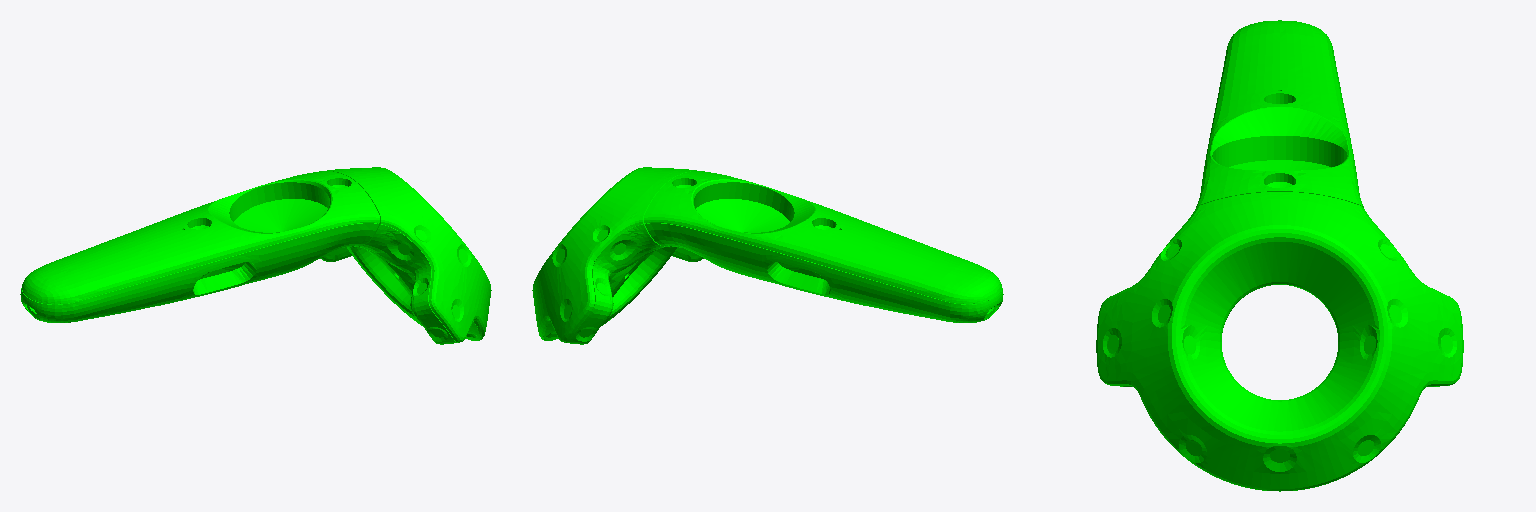
robot.urdf — my_robot:
<?xml version="1.0"?>
<robot name="my_robot">
  <link name="world" />
 
  <link name="controller0_link">
   <visual>
     <origin rpy="0 0 0" xyz="0 0 0"/>
     <geometry>
       <mesh filename="package://s4_vive/stl/vive_controller.stl"/>
     </geometry>
     <material name="green">
       <color rgba="0 1 0 1"/>
     </material>
   </visual>
  </link>
  <joint name="controller0_joint" type="floating">
    <parent link="world"/>
    <child link="controller0_link"/>
    <origin xyz="0 0 0" rpy="0 0 0"/>
    <axis xyz="0 0 1"/>
    <limit effort="30" velocity="1.0" lower="-2.0" upper="2.0" />
  </joint>

  <link name="pointer0_link" />
  <joint name="pointer0_joint" type="fixed">
    <parent link="controller0_link"/>
    <child link="pointer0_link"/>
    <origin xyz="0 0 -0.0685" rpy="0 1.01 0"/>
    <axis xyz="0 0 1"/>
    <limit effort="30" velocity="1.0" lower="-2.0" upper="2.0" />
  </joint>

  <link name="goal0_link" />
  <joint name="goal0_joint" type="floating">
    <parent link="pointer0_link"/>
    <child link="goal0_link"/>
    <origin xyz="0 0 0" rpy="0 0 0"/>
    <axis xyz="0 0 1"/>
    <limit effort="30" velocity="1.0" lower="-2.0" upper="2.0" />
  </joint>

<link name="controller1_link">
   <visual>
     <origin rpy="0 0 0" xyz="0 0 0"/>
     <geometry>
       <mesh filename="package://s4_vive/stl/vive_controller.stl"/>
     </geometry>
     <material name="green">
       <color rgba="0 1 0 1"/>
     </material>
   </visual>
  </link>
  <joint name="controller1_joint" type="floating">
    <parent link="world"/>
    <child link="controller1_link"/>
    <origin xyz="0 0 0" rpy="0 0 0"/>
    <axis xyz="0 0 1"/>
    <limit effort="30" velocity="1.0" lower="-2.0" upper="2.0" />
  </joint>


</robot>

--- What the picture shows (computed from the rendered views, not written in the file) ---
The picture shows the robot from 3 angles, left to right: view 1: azimuth 30°, elevation 25°; view 2: azimuth 150°, elevation 25°; view 3: azimuth 270°, elevation 25°; orthographic projection.
Robot: my_robot — 5 links, 4 joints (1 fixed, 3 floating); root link world; default pose: every joint at zero.
Visible links, largest first — view 1: controller0_link; view 2: controller0_link; view 3: controller0_link.
Link boxes in pixels (left/top/right/bottom): controller0_link: left=20, top=167, right=491, bottom=344; controller0_link: left=532, top=167, right=1003, bottom=344; controller0_link: left=1096, top=20, right=1463, bottom=491.
Size in the robot's own frame: 0.2194 by 0.1174 by 0.083 metres.
Meshes: 1 distinct files referenced, 2 mesh visuals loaded (1 binary STL).